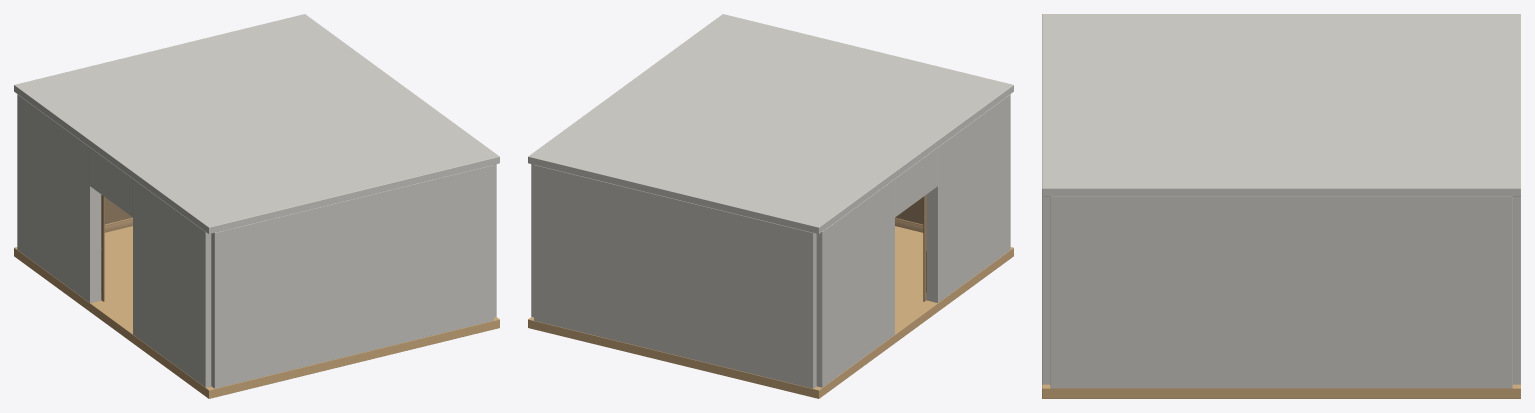
File: room-office.a2144060.glb
The picture shows the model from 3 angles, left to right: view 1: azimuth 30°, elevation 25°; view 2: azimuth 150°, elevation 25°; view 3: azimuth 270°, elevation 25°; orthographic projection. The views are drawn at different scales.
Visible parts, largest first — view 1: office__structure, office__ceiling, office__floor, office__trim, office__panelling; view 2: office__structure, office__ceiling, office__floor, office__trim, office__panelling; view 3: office__structure, office__ceiling, office__floor.
Part boxes in pixels (x1,y1,x2,y2): office__structure: (17,94,496,388); office__ceiling: (14,14,499,233); office__floor: (14,226,499,398); office__trim: (101,195,132,301); office__panelling: (101,197,132,292); office__structure: (531,94,1010,388); office__ceiling: (528,14,1013,233); office__floor: (528,226,1013,398); office__trim: (895,195,926,301); office__panelling: (895,197,926,292); office__structure: (1042,196,1520,388); office__ceiling: (1042,14,1520,196); office__floor: (1042,384,1520,398).
Size of the model in its own units: 6.25 by 3.52 by 7.25.
